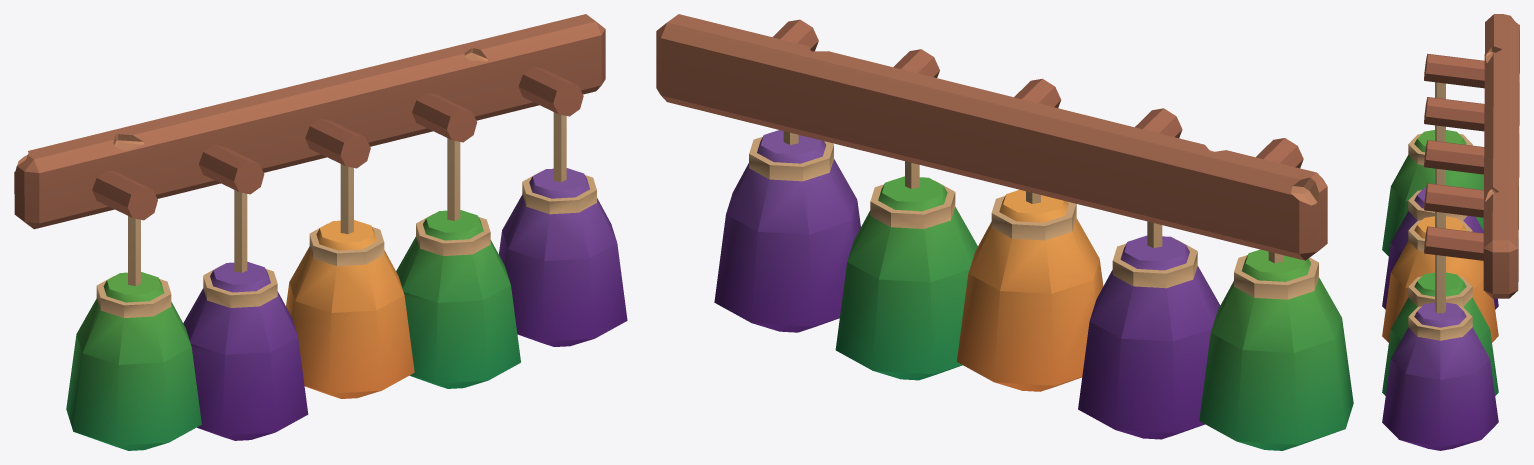
File: herb_rack.glb
The picture shows the model from 3 angles, left to right: view 1: azimuth 30°, elevation 25°; view 2: azimuth 150°, elevation 25°; view 3: azimuth 270°, elevation 25°; orthographic projection. The views are drawn at different scales.
Parts seen in each view (by area): view 1: herb_rack; view 2: herb_rack; view 3: herb_rack.
Boxes of the visible parts, bbox=[...] form: herb_rack: bbox=[14, 14, 627, 450]; herb_rack: bbox=[656, 14, 1353, 450]; herb_rack: bbox=[1382, 14, 1519, 450].
Bounding box in the file's own units: 1.91 × 0.9227 × 0.4722.
1 material, 1 textured.
